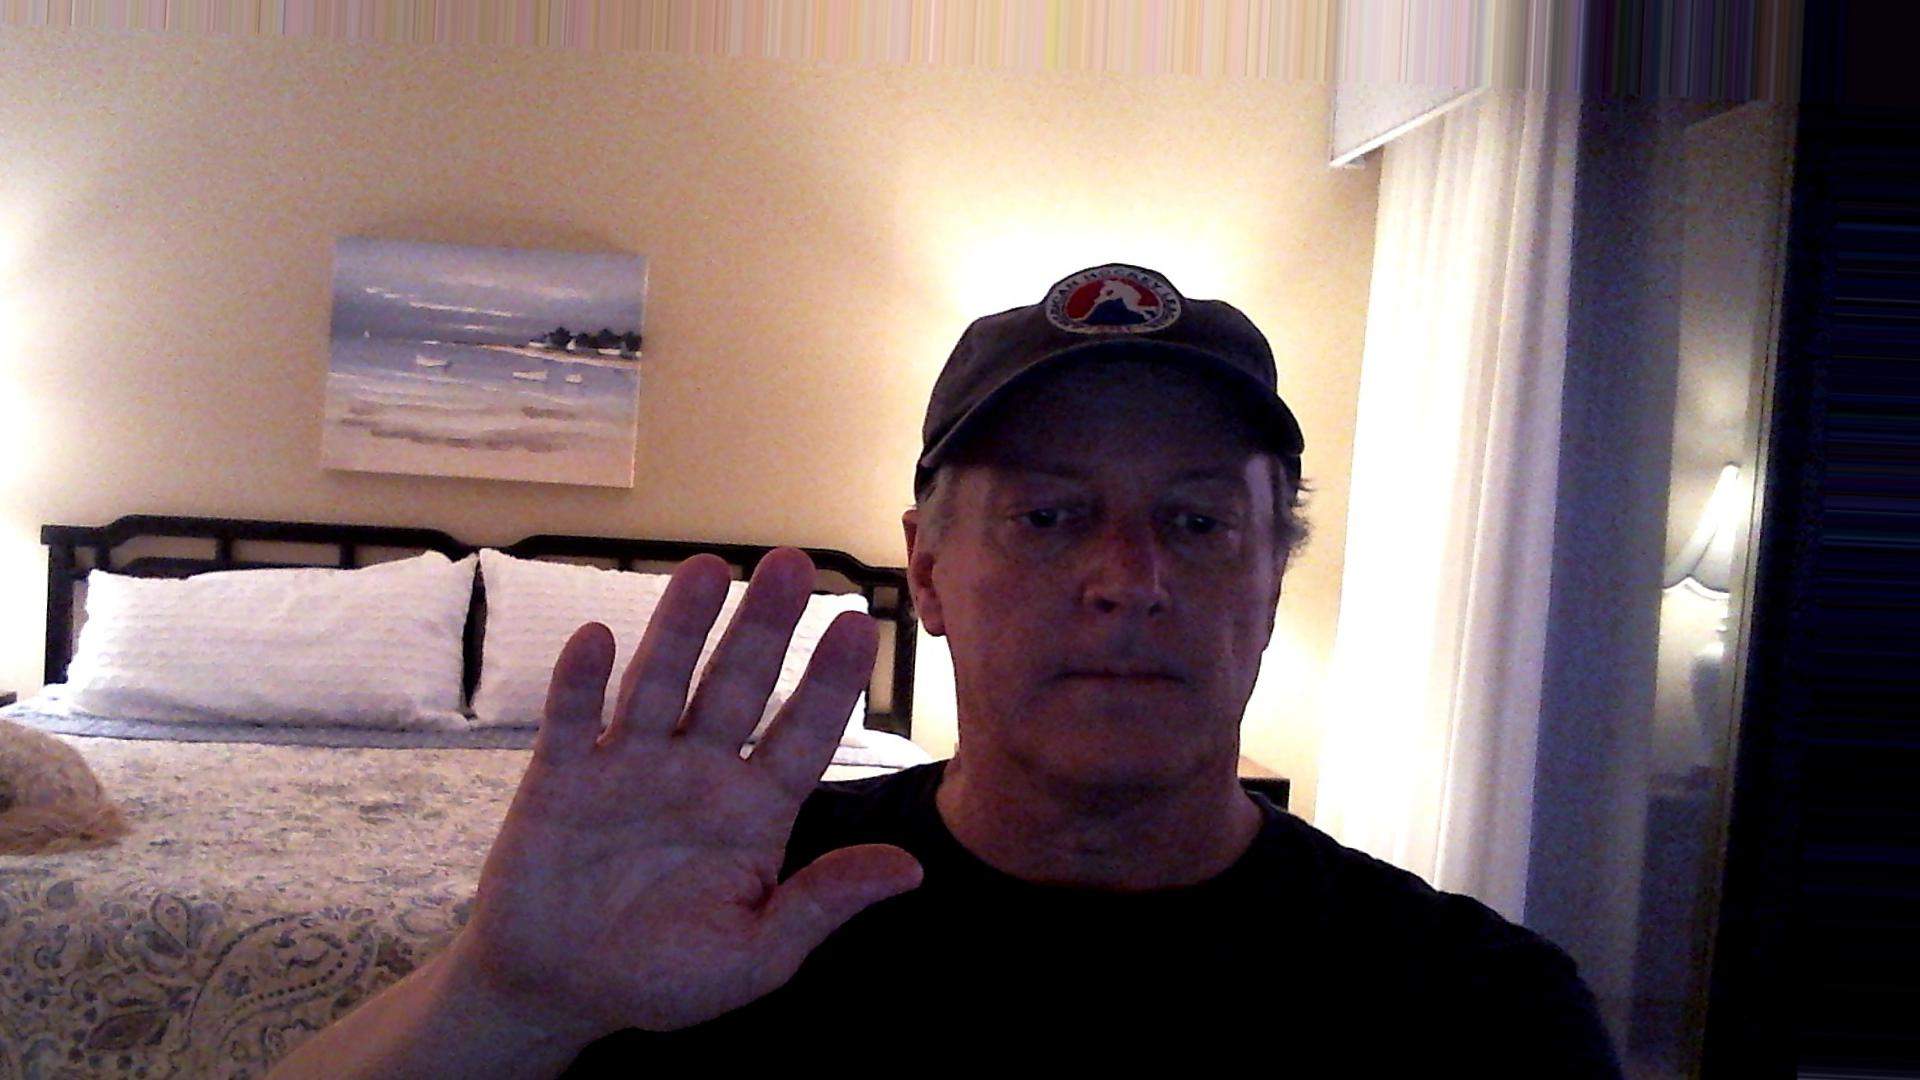Hello: (451, 541, 934, 1036)
